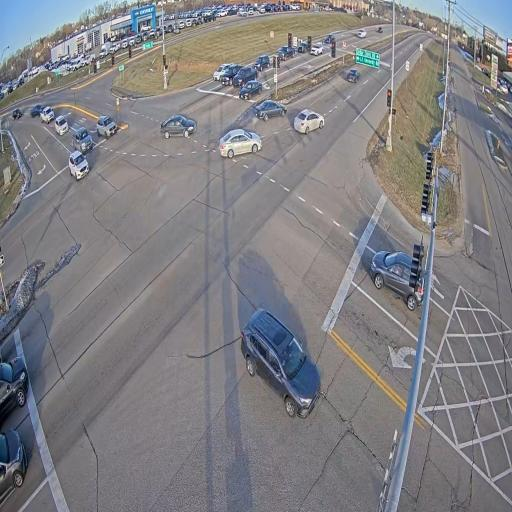pickup: (0, 357, 29, 423), (72, 127, 93, 153), (233, 66, 258, 87), (220, 64, 242, 85), (278, 46, 294, 61), (41, 107, 54, 123), (31, 104, 45, 117), (357, 28, 366, 38)
sedan: (370, 251, 425, 311), (0, 430, 28, 502), (219, 129, 262, 158), (161, 114, 197, 138), (294, 109, 325, 134), (254, 97, 284, 119), (239, 81, 262, 99), (346, 68, 360, 82), (377, 27, 382, 33)
suv: (241, 309, 321, 417), (68, 151, 89, 180), (97, 116, 117, 137), (213, 64, 230, 81), (55, 116, 69, 135), (254, 55, 270, 71), (297, 41, 309, 53), (310, 44, 323, 55), (324, 34, 335, 44), (13, 108, 22, 119)
